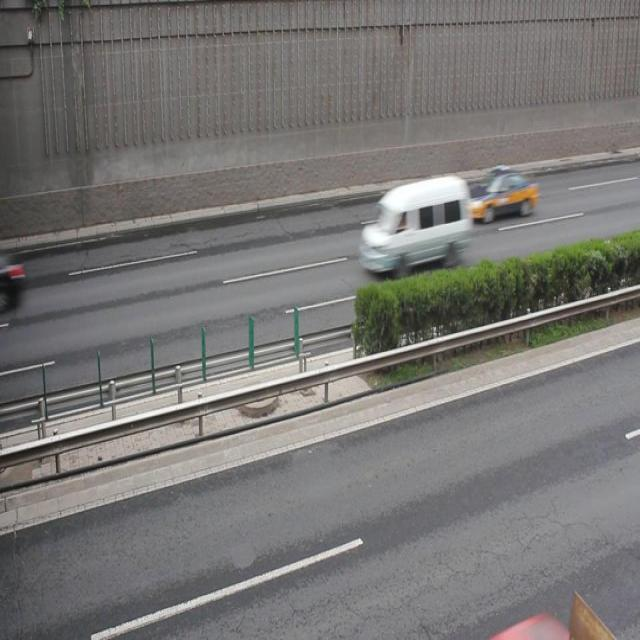car: (466, 164, 536, 222)
truck: (359, 176, 471, 273)
